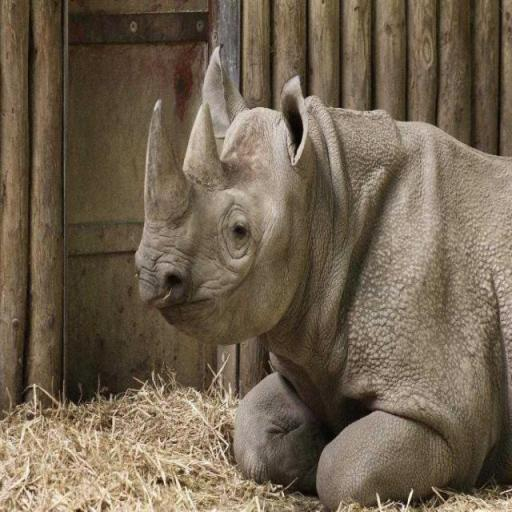Rhino: (134, 43, 511, 510)
